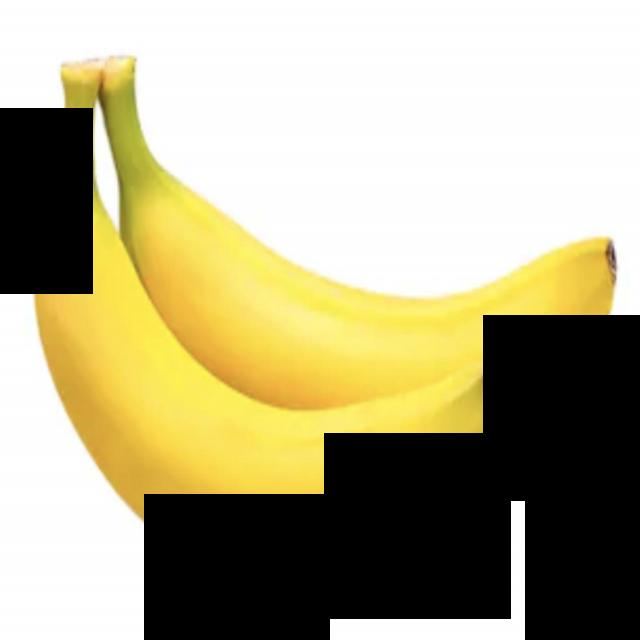banana: (26, 75, 521, 607), (106, 50, 619, 441)
